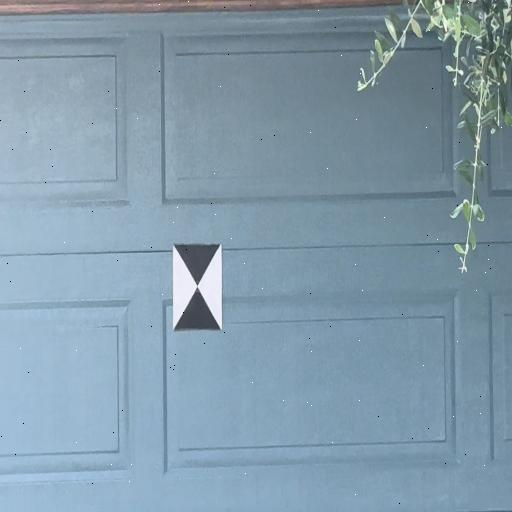target: (172, 245, 222, 331)
